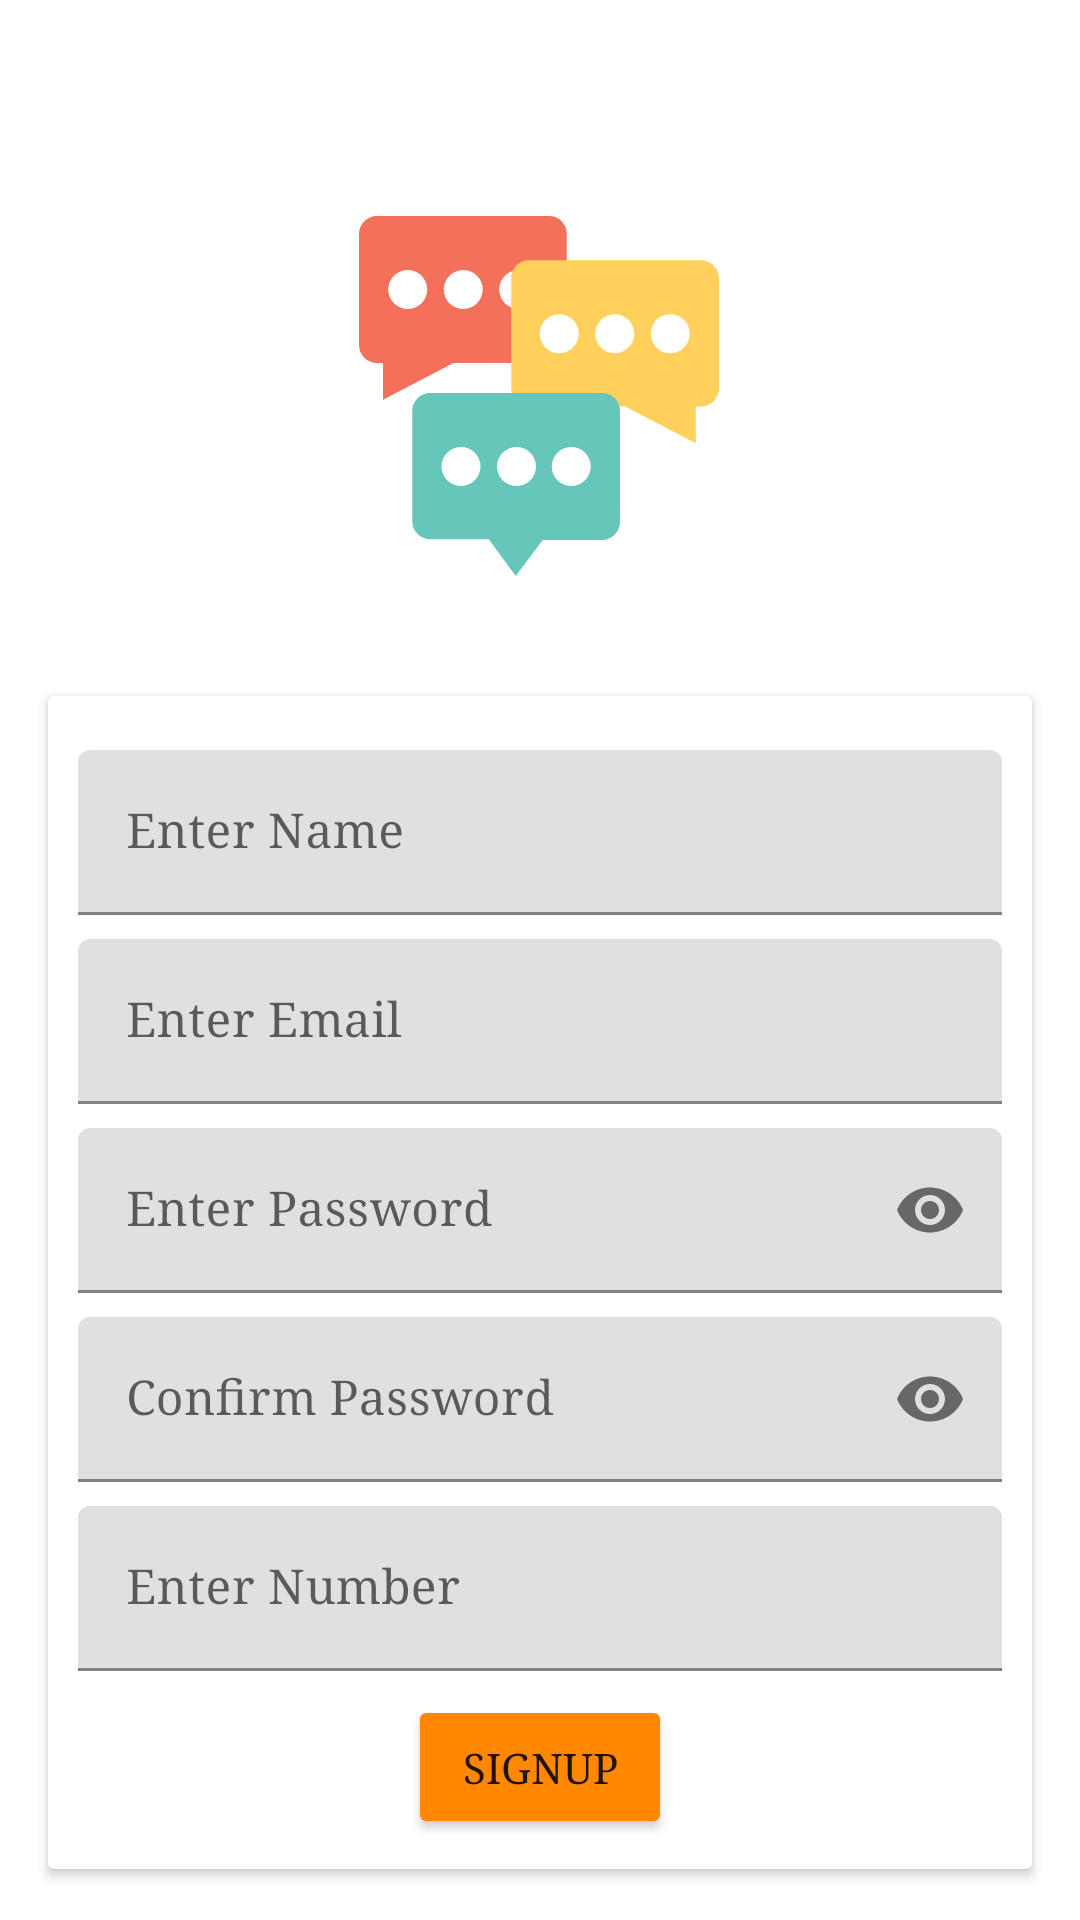

Icon click points for this 1080 x 1920 phone screenshot, format (x,y):
chat: (539,396)
